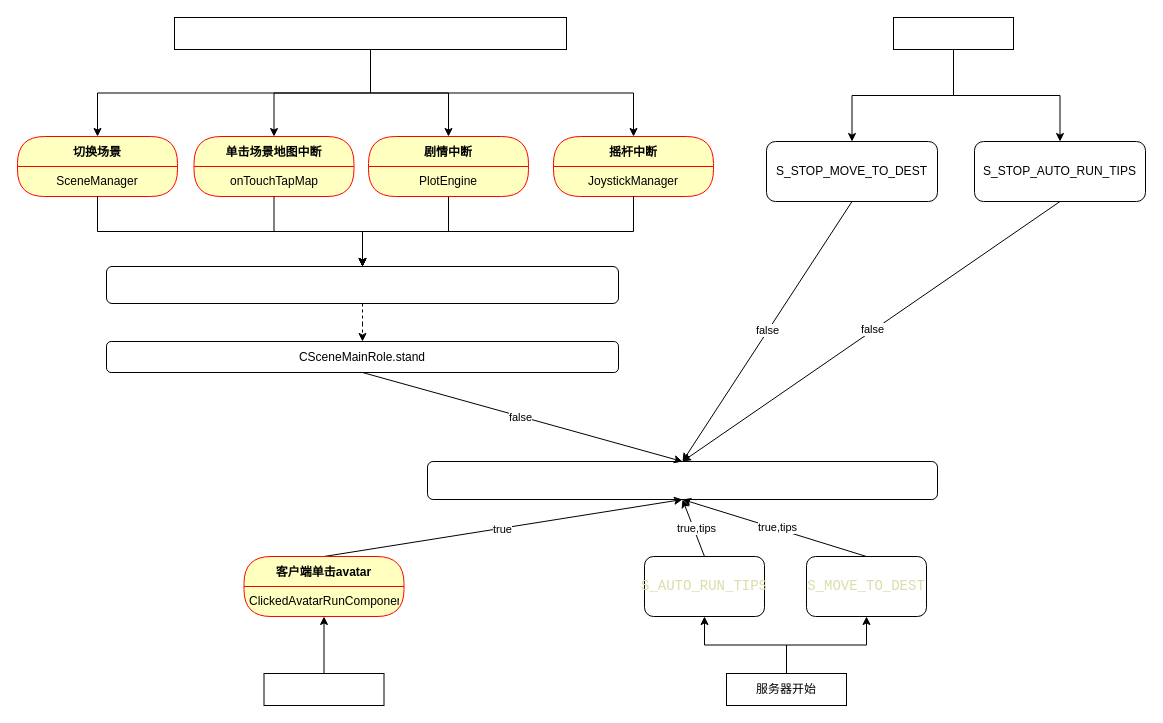
Image size: 1163x723. Some labels were removed from this diagram. Each missing label, with the centre of its shape:
C_STOP_AUTO_RUN: (362,285)
GSceneValue.setAutoNavState(bol:boolean, tips: string = ""): (682,480)
客户端中断: (370,33)
客户端开始: (323,689)
服务器中断: (953,33)
